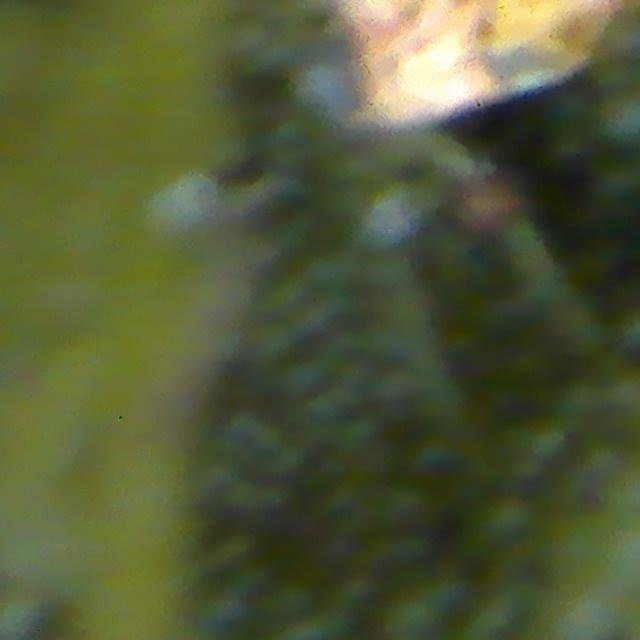SeaGrape: (538, 580, 625, 640), (597, 91, 640, 144)
